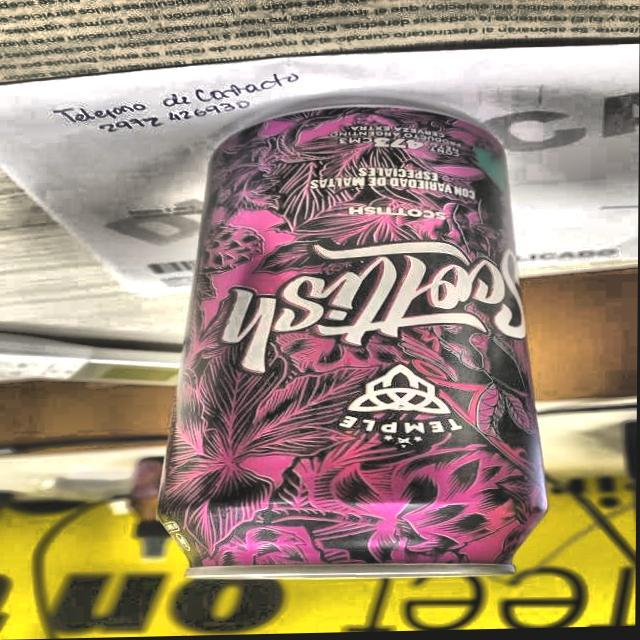litter: (154, 90, 560, 597)
